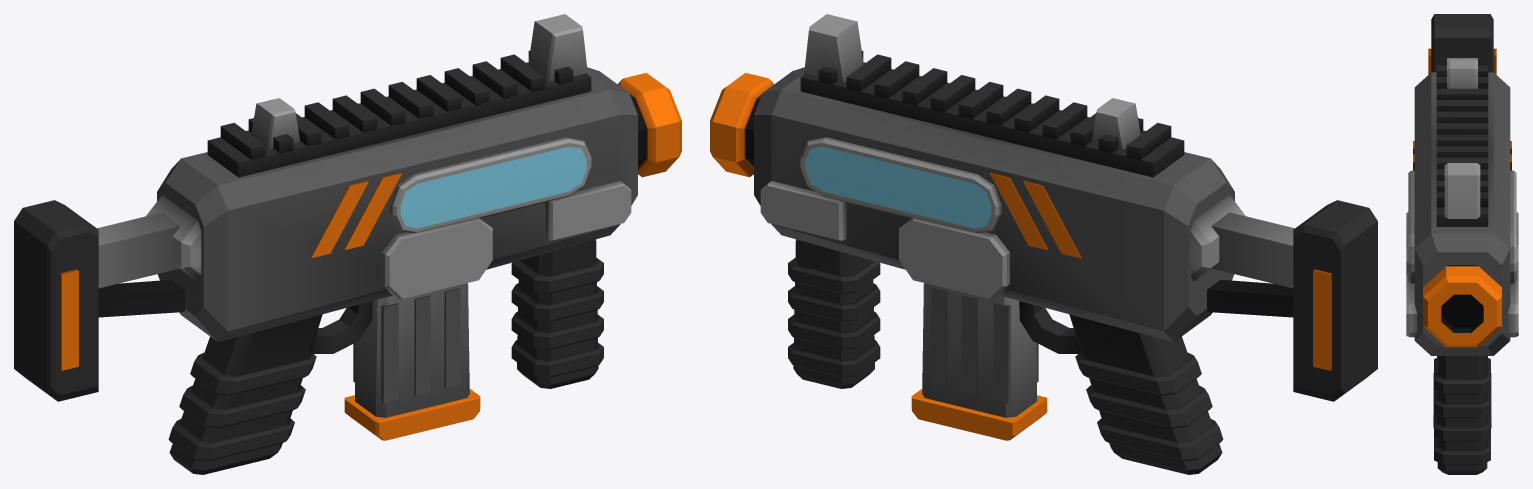
The model's file is smg.glb.
3 views of the same model, side by side, from view 1: azimuth 30°, elevation 25°; view 2: azimuth 150°, elevation 25°; view 3: azimuth 270°, elevation 25° (orthographic). The views are drawn at different scales.
Parts seen in each view (by area): view 1: smg; view 2: smg; view 3: smg.
Part boxes in pixels (left/top/right/bottom): smg: left=14, top=14, right=681, bottom=474; smg: left=710, top=14, right=1377, bottom=474; smg: left=1406, top=14, right=1518, bottom=474.
Bounding box in the file's own units: 0.59 × 0.32 × 0.108.
1 material, 1 textured.
